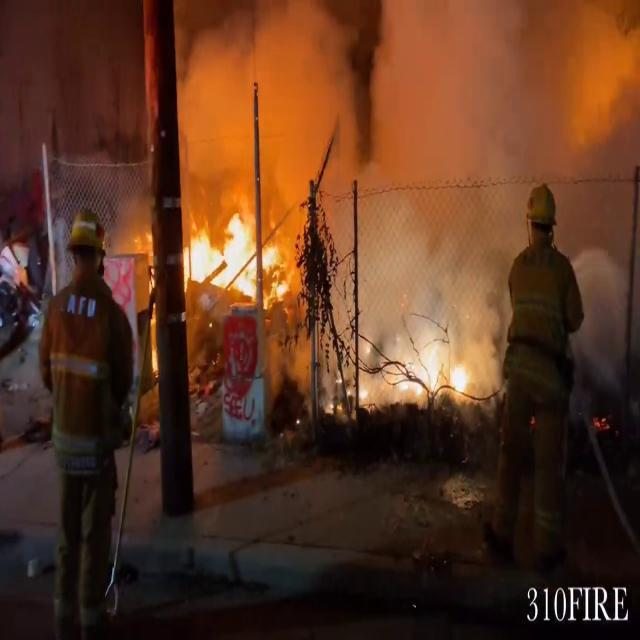Fire: (182, 200, 286, 306), (130, 225, 168, 297)
Smoke: (189, 0, 640, 384)
